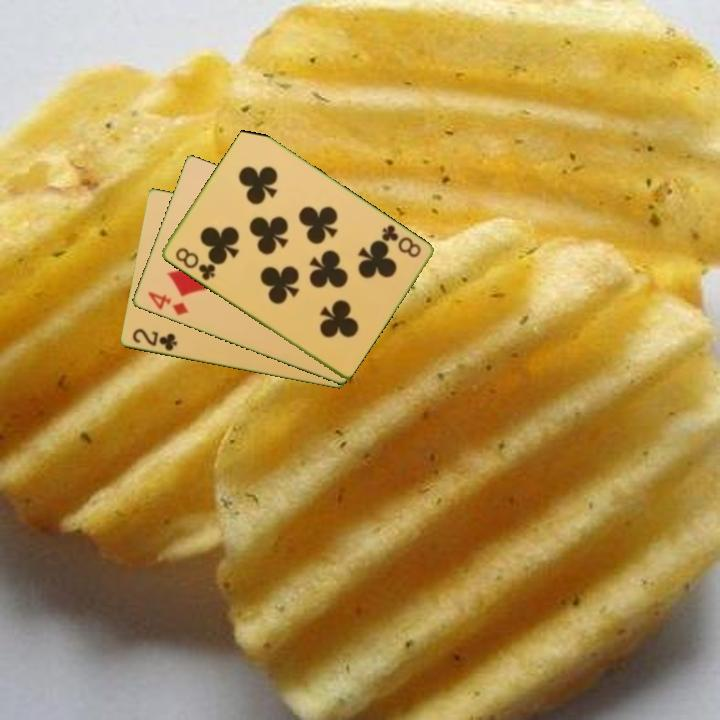2c: (129, 325, 180, 354)
4d: (144, 288, 191, 318)
8c: (377, 221, 424, 261), (171, 244, 218, 283)
